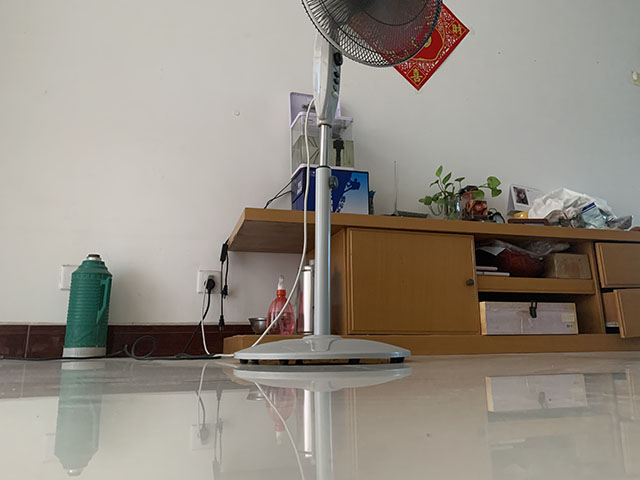cabinet: (220, 206, 640, 357)
wire: (1, 97, 316, 361)
